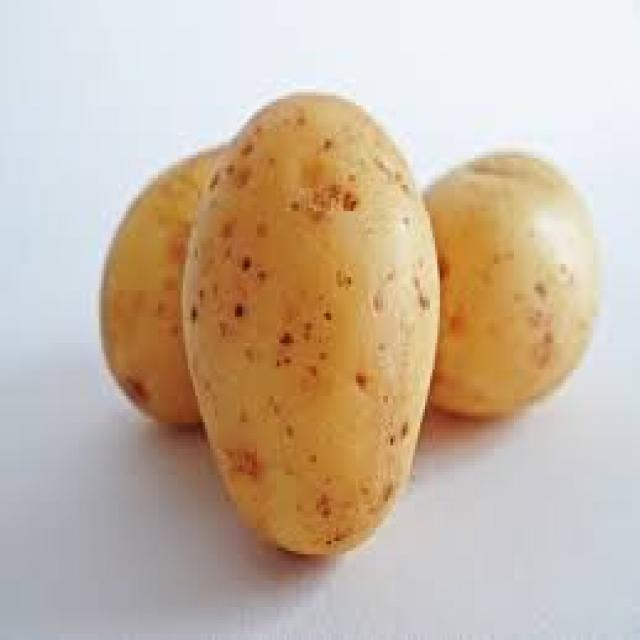organic waste: (178, 96, 440, 554), (420, 145, 588, 419), (96, 142, 232, 422)
